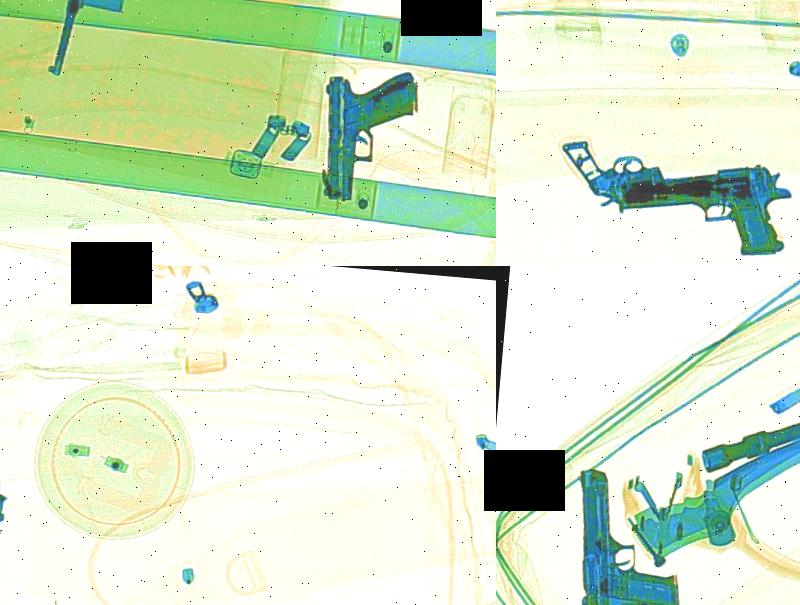Gun: (556, 112, 762, 230), (603, 144, 800, 266), (564, 456, 697, 605), (317, 62, 426, 206), (36, 0, 191, 88)
